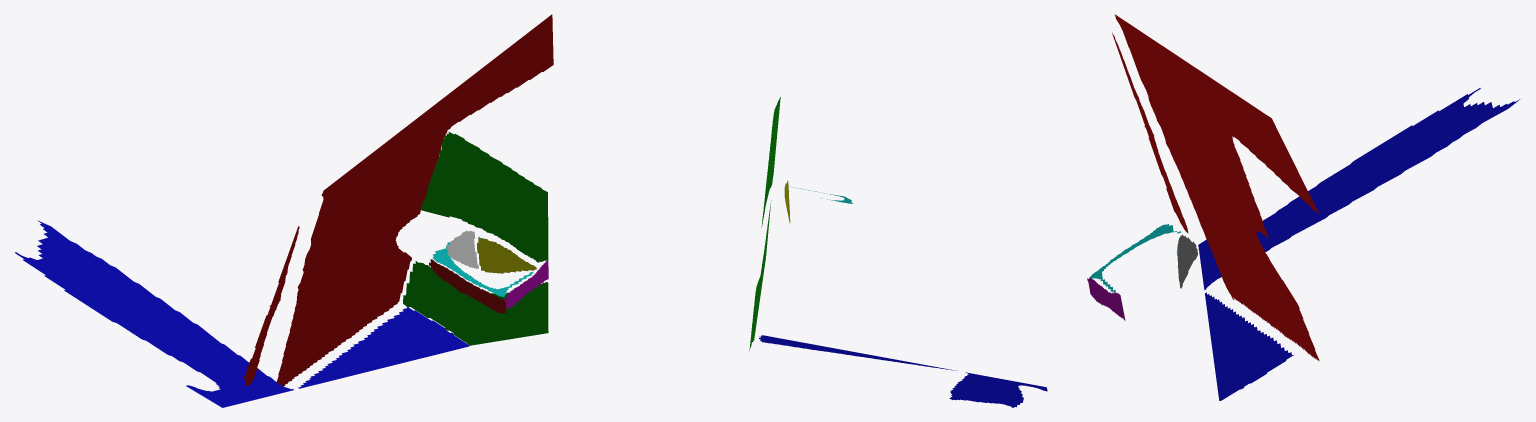
Rendered from 532_seg_predplane.glb.
3 renders of one model, left to right at view 1: azimuth 30°, elevation 25°; view 2: azimuth 150°, elevation 25°; view 3: azimuth 270°, elevation 25°, orthographic. The views are drawn at different scales.
Bounding box in the file's own units: 3.13 × 1.88 × 2.17.
